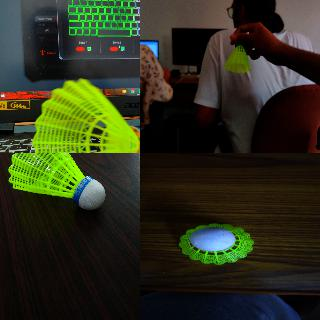shuttlecock: (29, 77, 139, 152), (7, 153, 105, 210), (178, 223, 252, 265), (224, 42, 250, 72)
